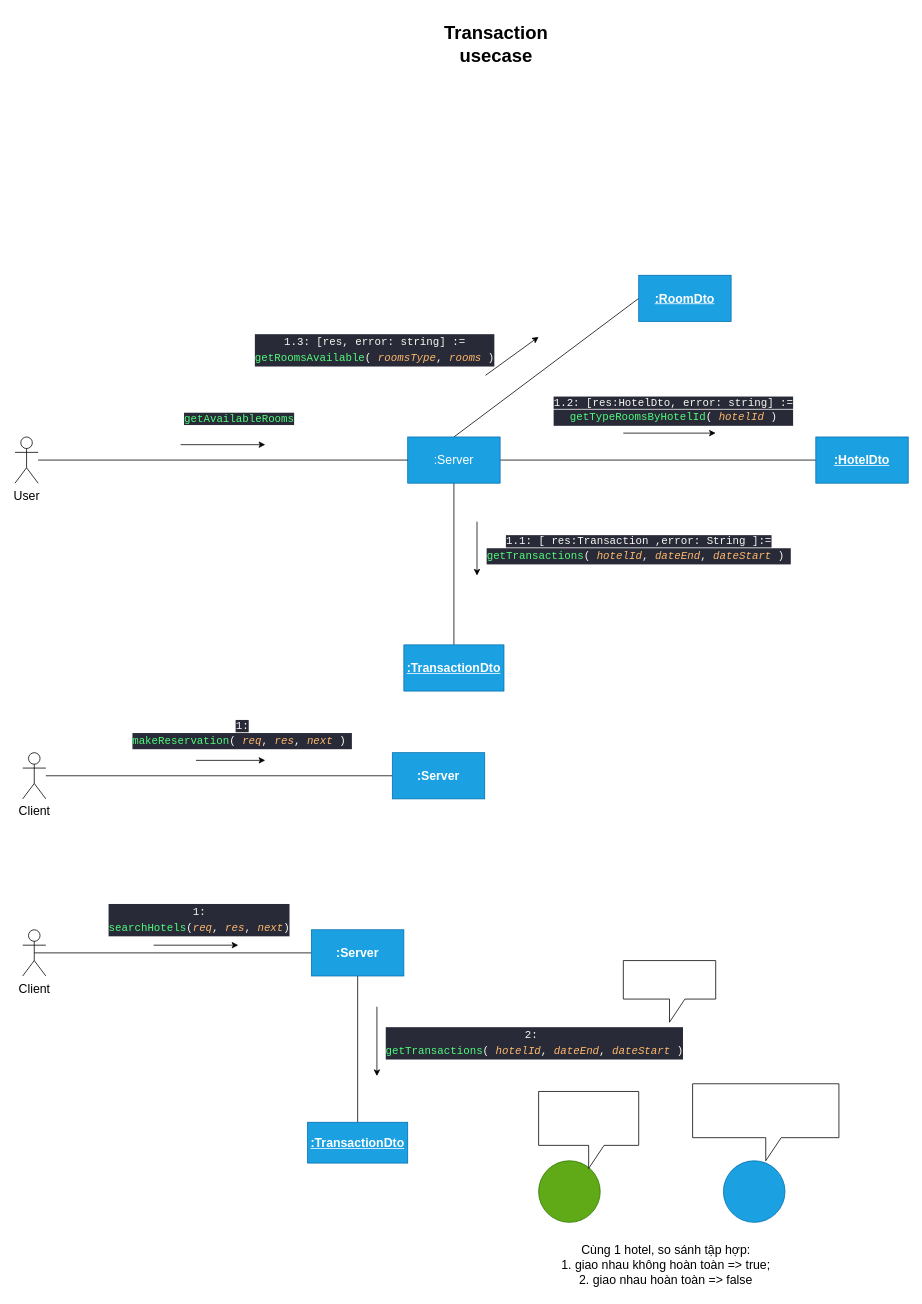
The diagram is 922 pixels wide and 1304 high, and some of its shapes have lost their labels. The shapes that lost their labels are listed below. From the top down, each one's centre as x and y in pixels, then its label:
the point at 669,991: Gets rooms unavailable
the point at 588,1129: Rooms filtered along to a hotel
the point at 765,1122: Rooms unavailable (a hotel)
